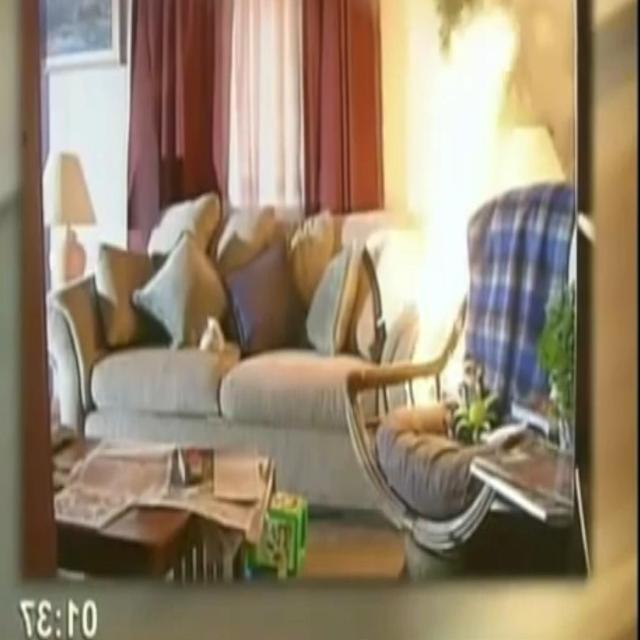smoke: (408, 2, 522, 406)
